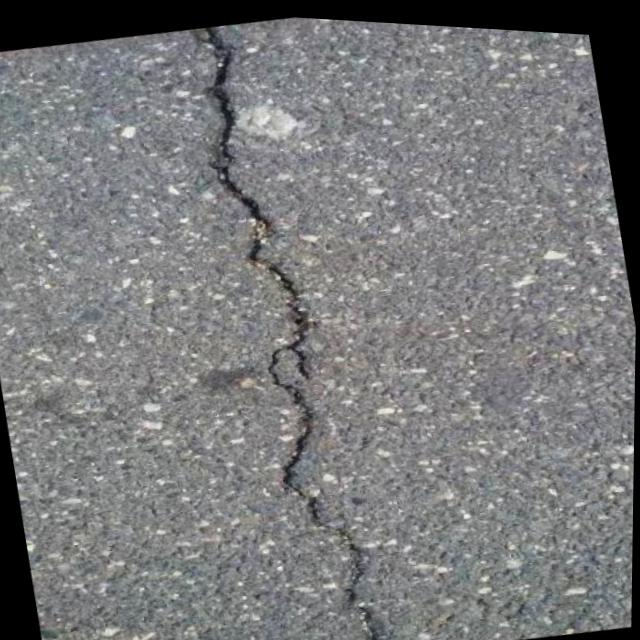Crack: (154, 7, 409, 640)
